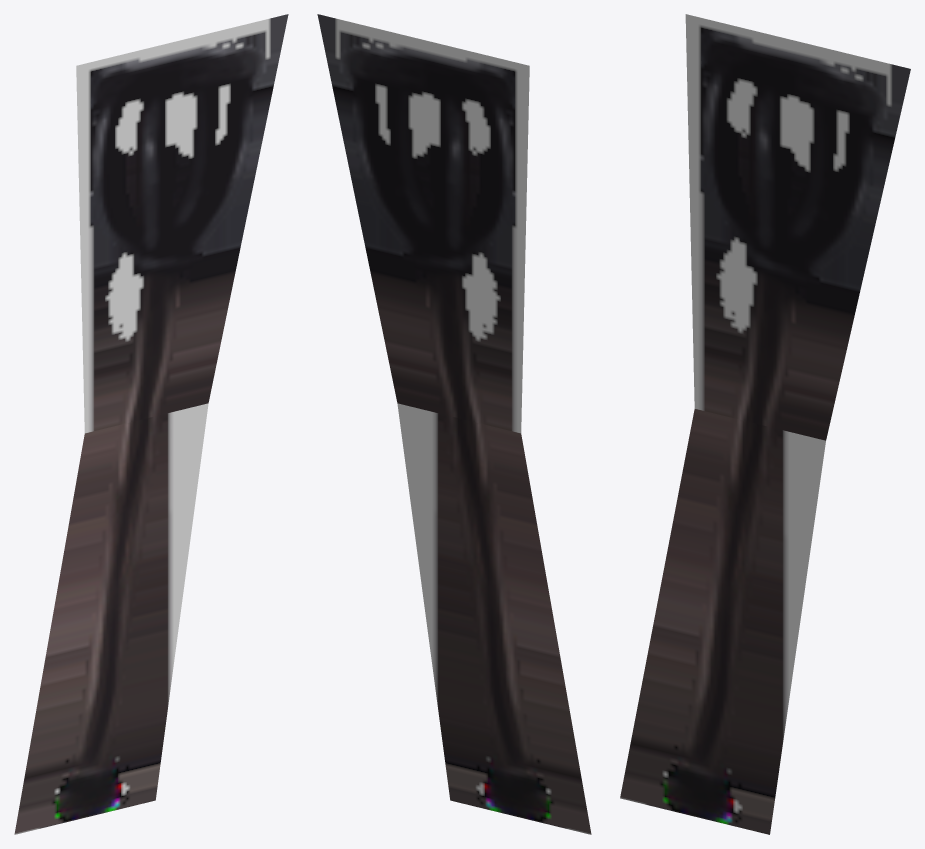
Rendered from Torch.FBX.
3 views of the same model, side by side, from view 1: azimuth 30°, elevation 25°; view 2: azimuth 150°, elevation 25°; view 3: azimuth 330°, elevation 25° (orthographic). The views are drawn at different scales.
Parts seen in each view (by area): view 1: Torch; view 2: Torch; view 3: Torch.
Boxes of the visible parts, <box> form: Torch: <box>14,14,288,834</box>; Torch: <box>317,14,591,834</box>; Torch: <box>620,14,910,834</box>.
Size of the model in its own units: 91.48 by 2.75e-05 by 240.
1 material, 1 textured.
